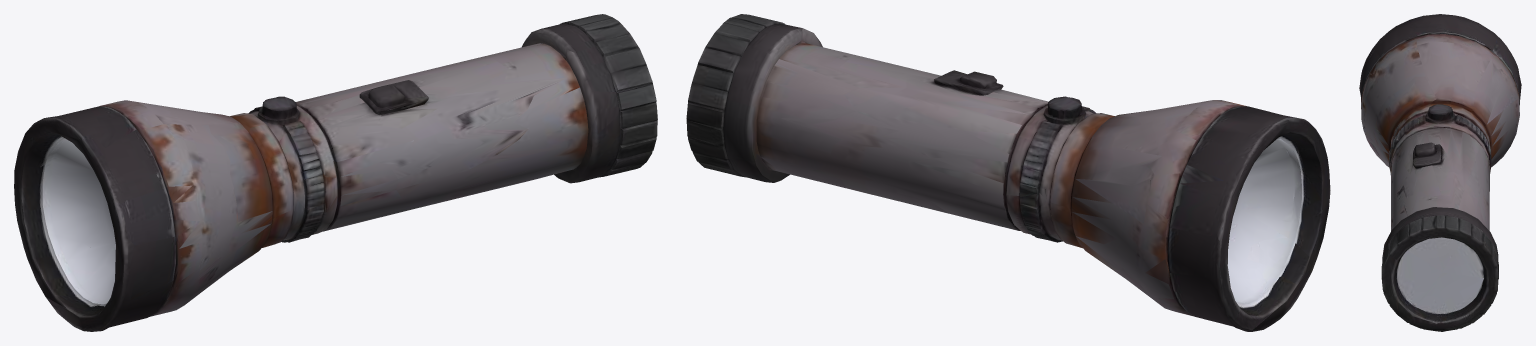
The model's file is tool_flashlight_ruchnoy_idle.glb.
3 renders of one model, left to right at view 1: azimuth 30°, elevation 25°; view 2: azimuth 150°, elevation 25°; view 3: azimuth 270°, elevation 25°, orthographic. The views are drawn at different scales.
Parts seen in each view (by area): view 1: tripo_node_cce44d98-e275-4c5f-93fe-3cf445a5ff5a; view 2: tripo_node_cce44d98-e275-4c5f-93fe-3cf445a5ff5a; view 3: tripo_node_cce44d98-e275-4c5f-93fe-3cf445a5ff5a.
Boxes of the visible parts, x1,y1,x2,y2 form: tripo_node_cce44d98-e275-4c5f-93fe-3cf445a5ff5a: (14,14,657,331); tripo_node_cce44d98-e275-4c5f-93fe-3cf445a5ff5a: (686,14,1330,331); tripo_node_cce44d98-e275-4c5f-93fe-3cf445a5ff5a: (1359,14,1521,331).
Bounding box in the file's own units: 0.7224 × 0.2503 × 0.255.
Materials: 1 (1 with a texture image).
